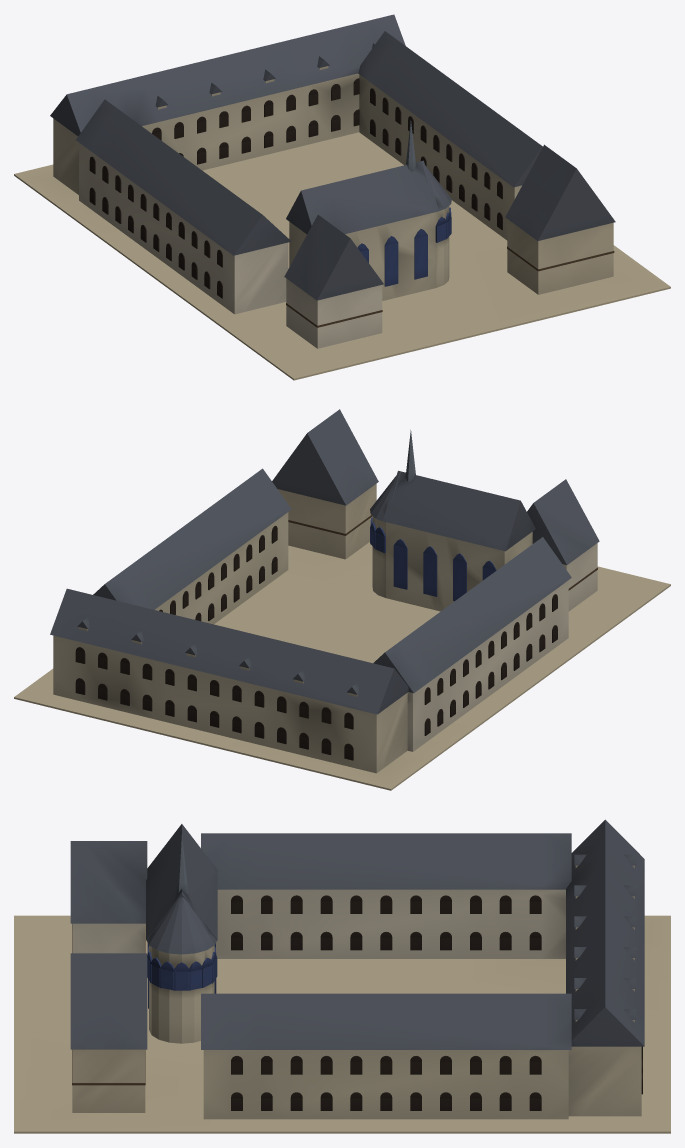
File: sorbonne-college.glb
The picture shows the model from 3 angles, top to bottom: view 1: azimuth 30°, elevation 25°; view 2: azimuth 150°, elevation 25°; view 3: azimuth 270°, elevation 25°; orthographic projection. The views are drawn at different scales.
Parts seen in each view (by area): view 1: p0_college, p1_chapel; view 2: p0_college, p1_chapel; view 3: p0_college, p1_chapel.
Boxes of the visible parts, x1,y1,x2,y2 form: p0_college: [14, 14, 670, 380]; p1_chapel: [286, 120, 451, 300]; p0_college: [14, 409, 670, 790]; p1_chapel: [370, 430, 535, 611]; p0_college: [14, 819, 670, 1133]; p1_chapel: [146, 824, 217, 1043].
Size of the model in its own units: 70 by 29.04 by 90.
